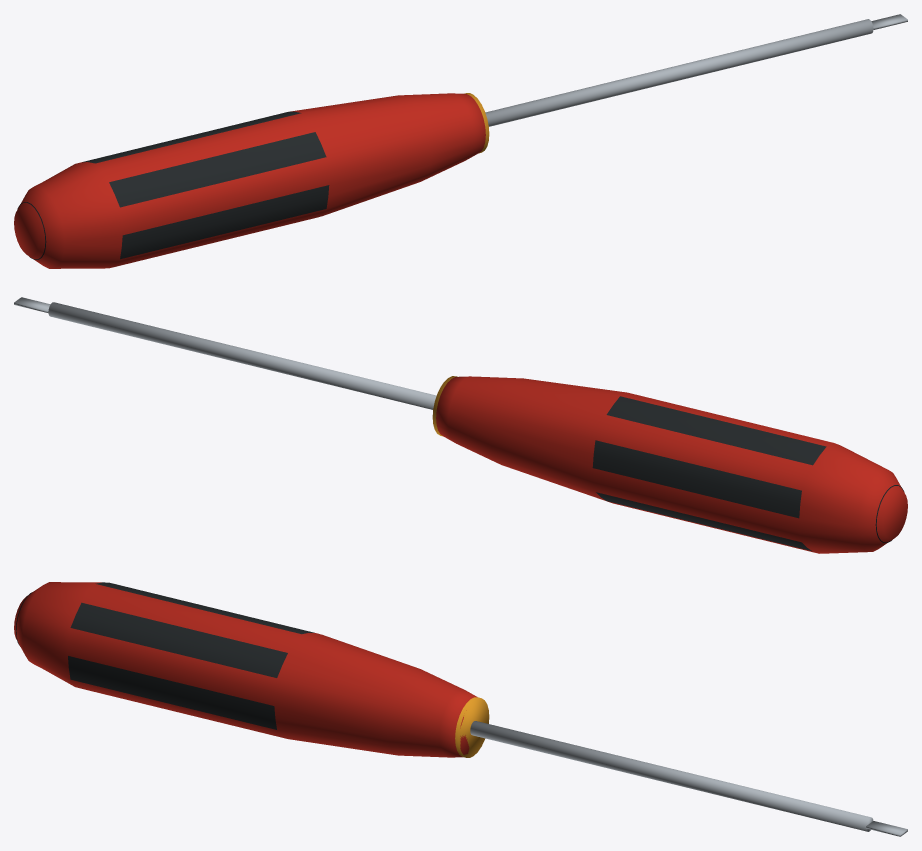
Rendered from lod1_source.glb.
The picture shows the model from 3 angles, top to bottom: view 1: azimuth 30°, elevation 25°; view 2: azimuth 150°, elevation 25°; view 3: azimuth 330°, elevation 25°; orthographic projection.
Visible parts, largest first — view 1: 23 mm contoured polymer handle, Shaft; view 2: 23 mm contoured polymer handle, Shaft; view 3: 23 mm contoured polymer handle, Shaft, Collar.
Part boxes in pixels (left/top/right/bottom): 23 mm contoured polymer handle: left=14, top=93, right=485, bottom=268; Shaft: left=485, top=19, right=873, bottom=126; 23 mm contoured polymer handle: left=436, top=376, right=907, bottom=553; Shaft: left=48, top=302, right=436, bottom=409; 23 mm contoured polymer handle: left=14, top=582, right=477, bottom=757; Shaft: left=470, top=721, right=873, bottom=831; Collar: left=455, top=697, right=489, bottom=757.
Size of the model in its own units: 0.204 by 0.023 by 0.0222.
